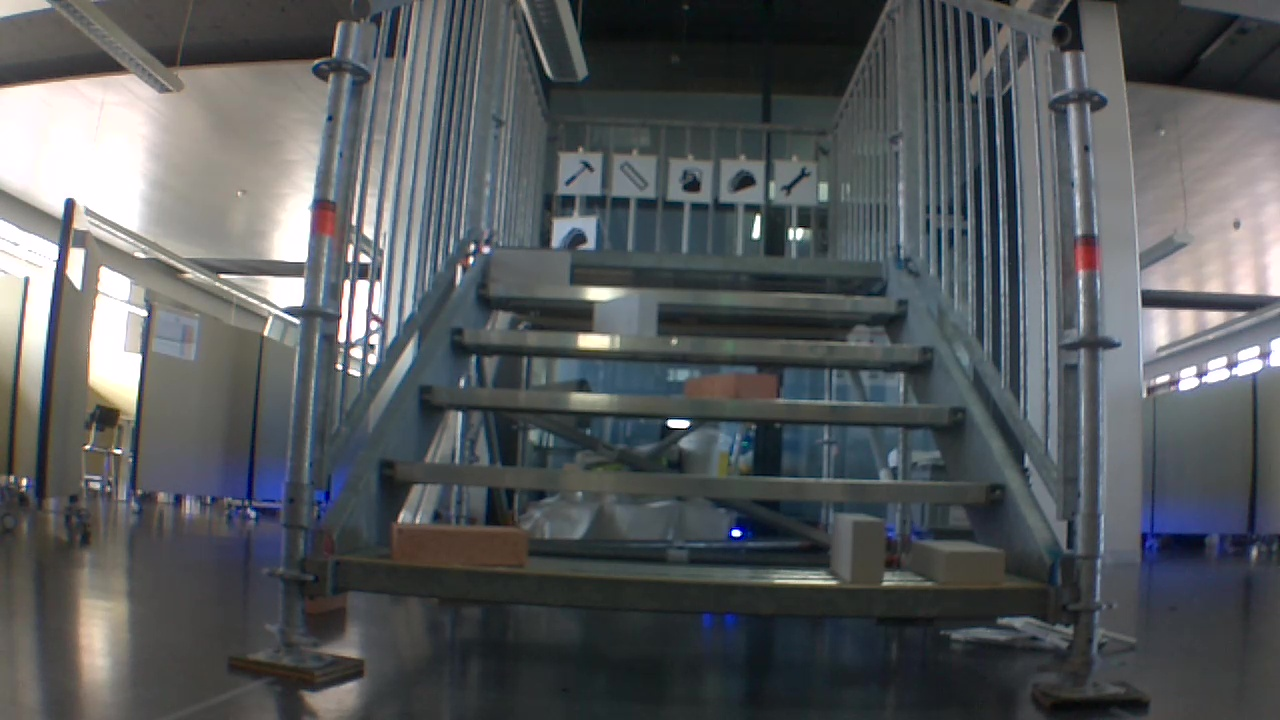brick: (386, 523, 529, 569), (824, 513, 895, 580), (906, 537, 1006, 583), (488, 250, 574, 288), (588, 293, 652, 335), (681, 373, 780, 400)
bucket: (677, 166, 706, 198)
edge: (335, 560, 1064, 620), (381, 456, 1007, 505), (455, 325, 933, 368), (420, 385, 961, 421), (494, 245, 886, 280), (481, 288, 906, 317)
hammer: (564, 157, 593, 189)
ruler: (620, 160, 651, 191)
stairs: (271, 0, 1104, 671)
steps: (329, 244, 1070, 619)
taco: (725, 168, 761, 193), (559, 222, 590, 247)
wrench: (778, 167, 810, 197)
